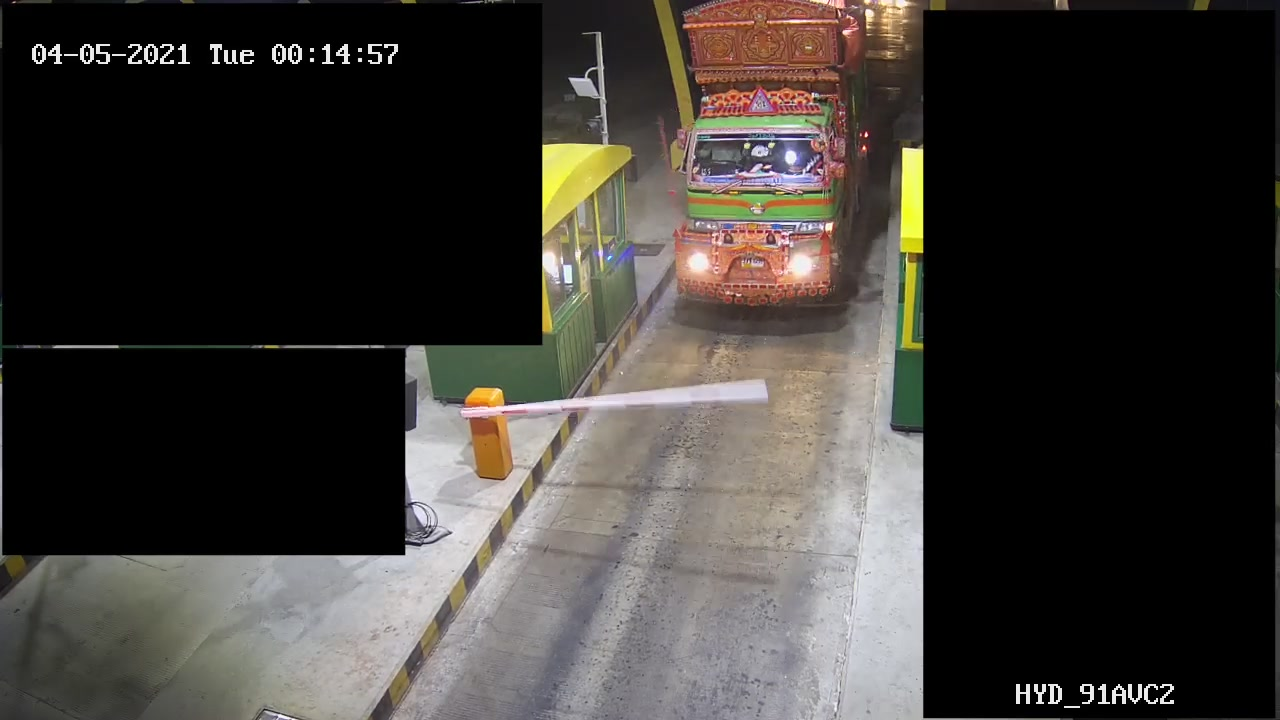F5: (658, 1, 867, 337)
